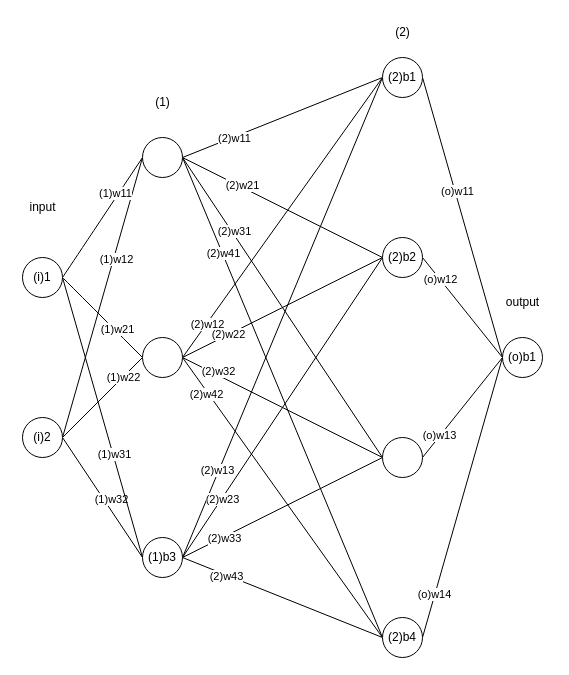
The diagram is 569 pixels wide and 675 high, and some of its shapes have lost their labels. The shapes that lost their labels are listed below. From the top down, each one's centre as x and y in pixels, then its label:
At (x=162, y=157): "(1)b1".
At (x=162, y=357): "(1)b2".
At (x=402, y=457): "(2)b3".
